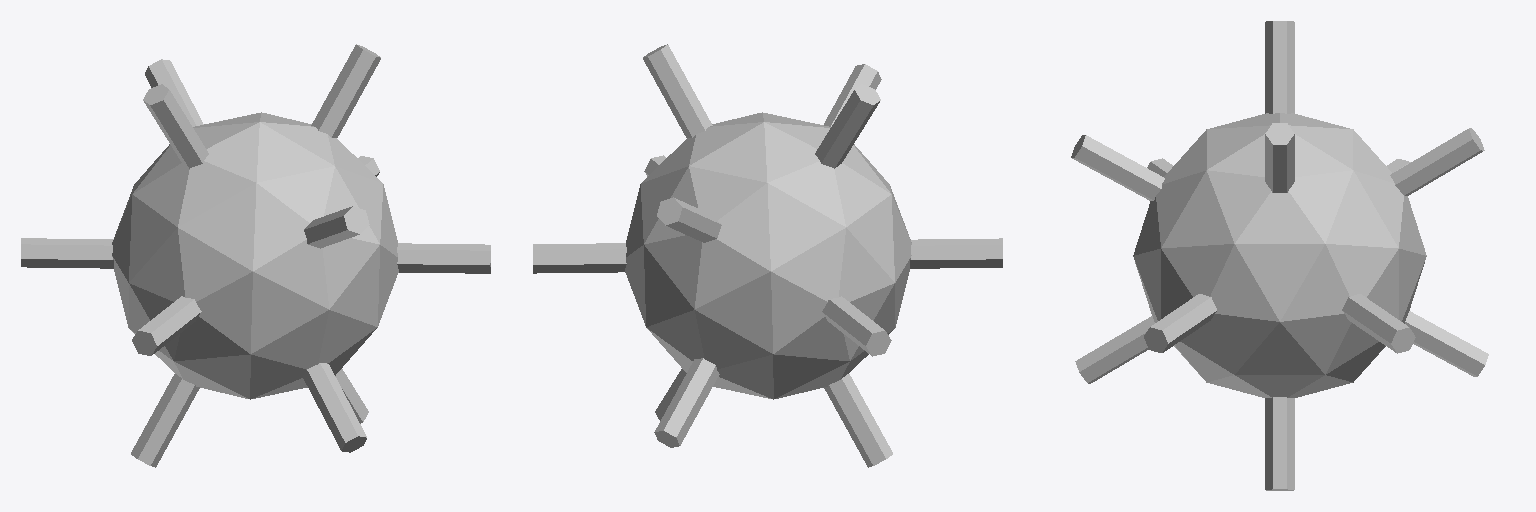
File: seamine.obj
3 views of the same model, side by side, from view 1: azimuth 30°, elevation 25°; view 2: azimuth 150°, elevation 25°; view 3: azimuth 270°, elevation 25° (orthographic).
Visible parts, largest first — view 1: mine; view 2: mine; view 3: mine.
Part boxes in pixels (x1,y1,x2,y2): mine: (21,44,490,467); mine: (533,44,1002,467); mine: (1071,21,1488,490).
Bounding box in the file's own units: 2.83 × 2.87 × 2.85.